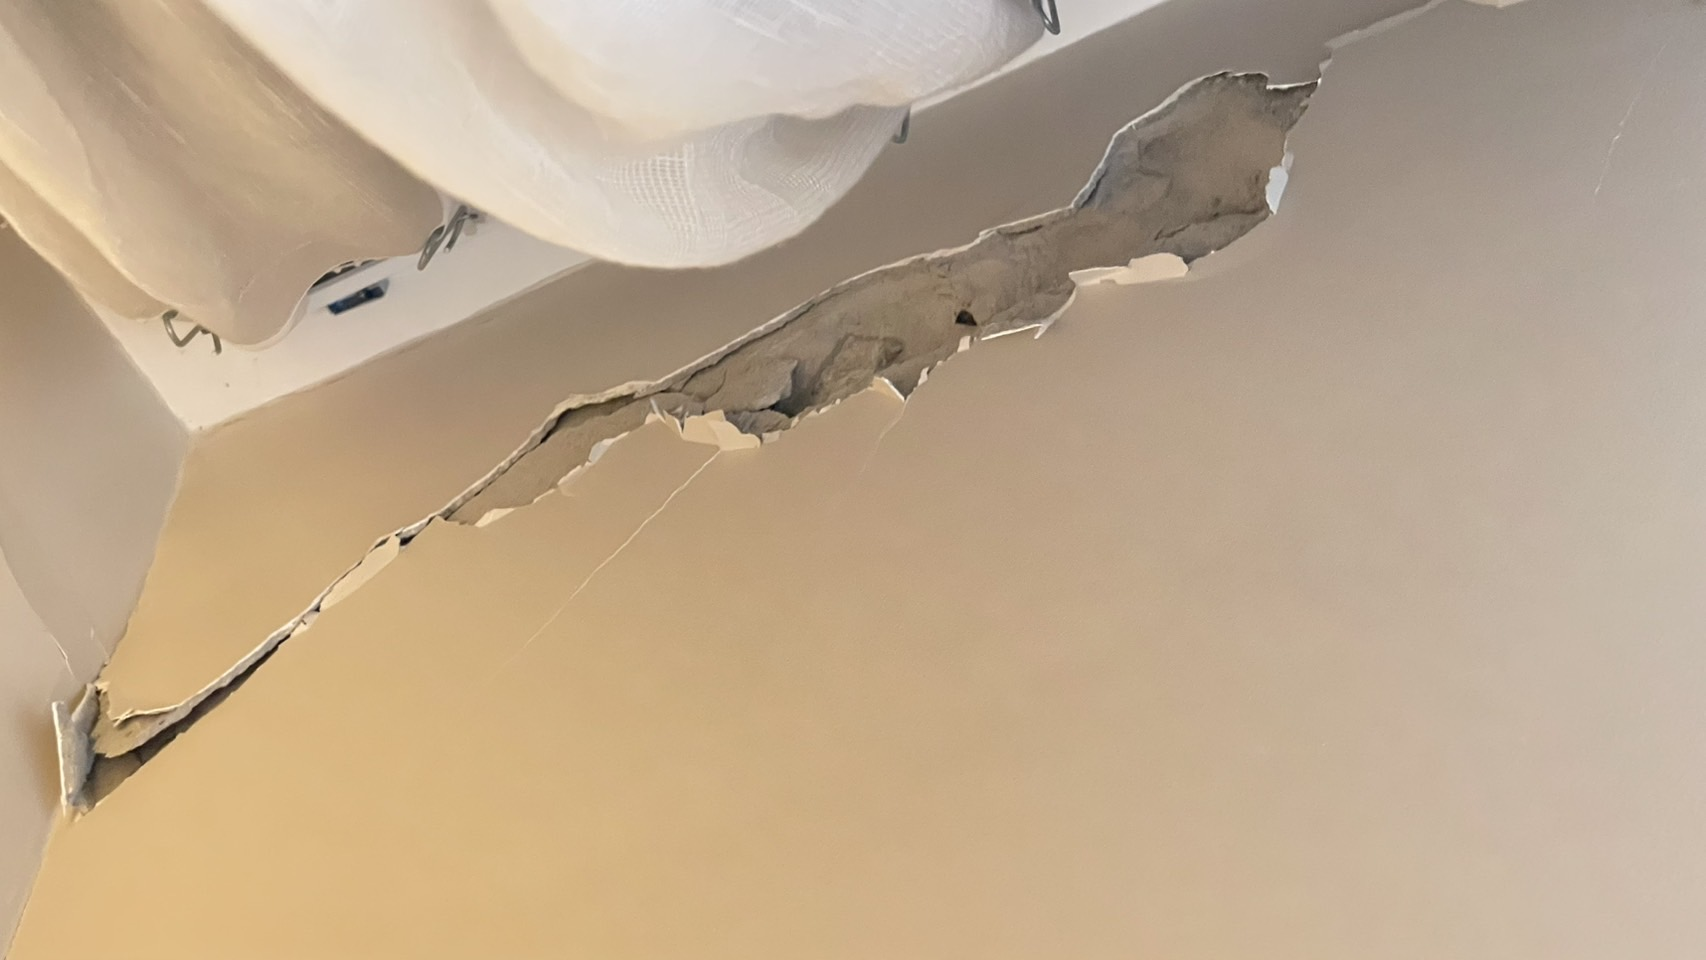Medium: (241, 355, 1158, 783)
